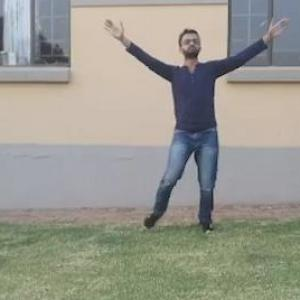takeoff: (122, 17, 288, 220)
